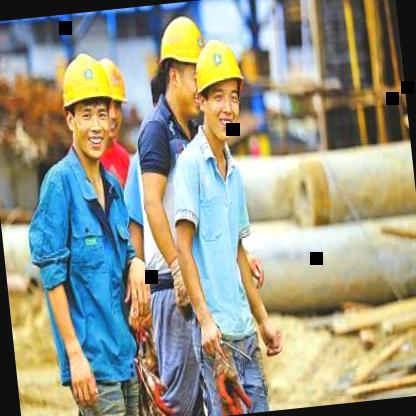helmet: (180, 29, 252, 143), (158, 14, 226, 130), (52, 45, 115, 168), (92, 50, 134, 146)
